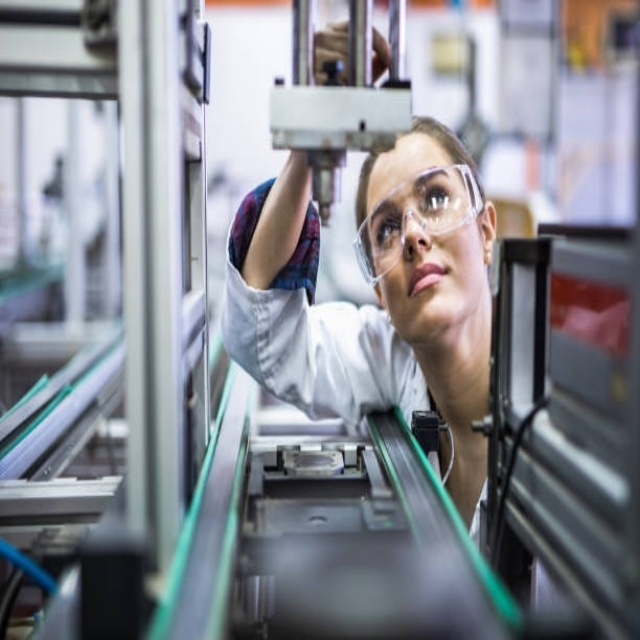Gafas: (355, 163, 484, 286)
Sin_mascara: (402, 256, 458, 314)
